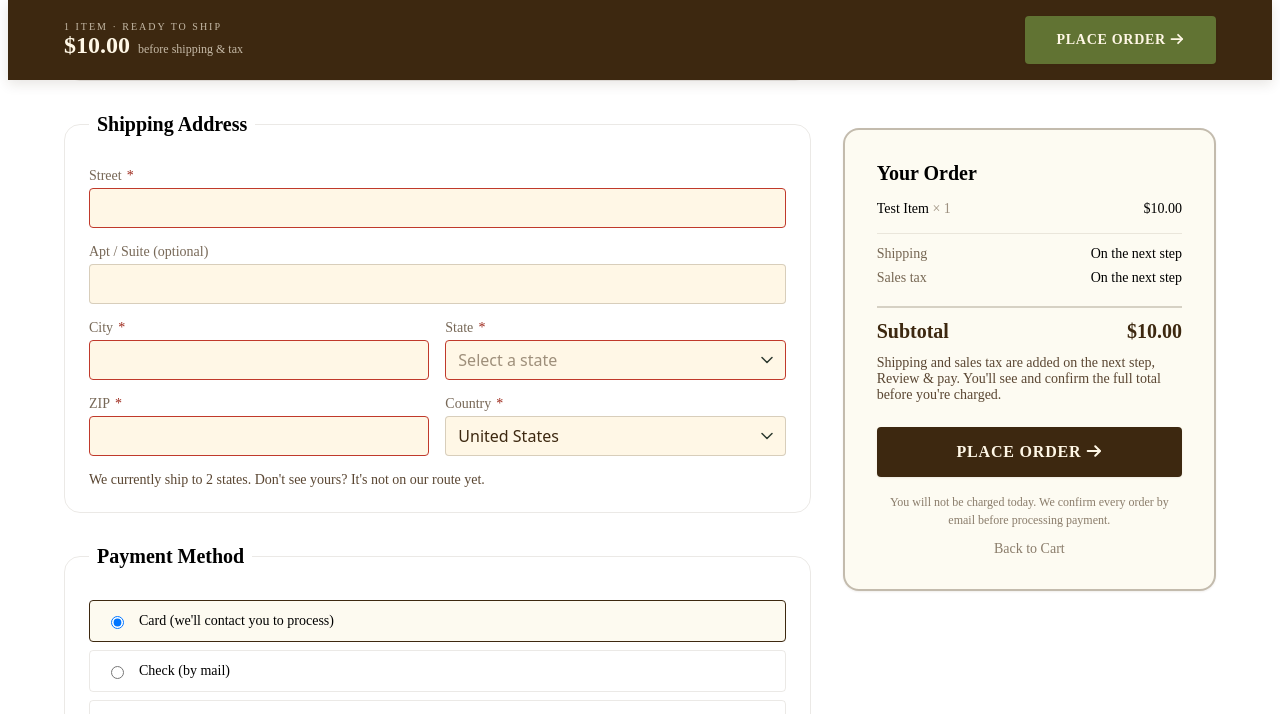
<CheckoutPage /> kit — shipStateNotice seam (GOL-3028) › announces the notice in a polite live region, under the address
(page scrolled)
Select "Florida" in the dropdown labelled "State *" at (615, 360), box [445,340,786,380]
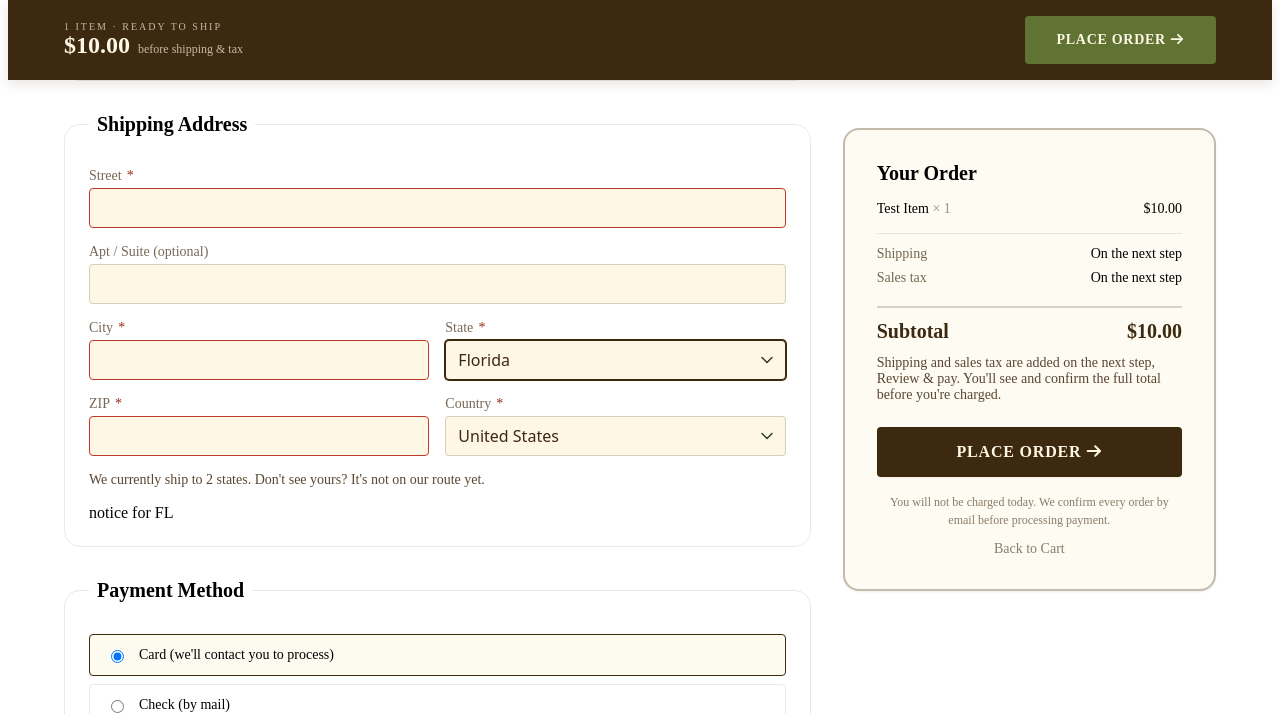
Expected: the element with class "grove-checkout__state-notice" shows "Shipping Address", [97,113,247,135]
Now the element with class "grove-checkout__state-notice" reads "notice for FL", box [89,504,173,521]
